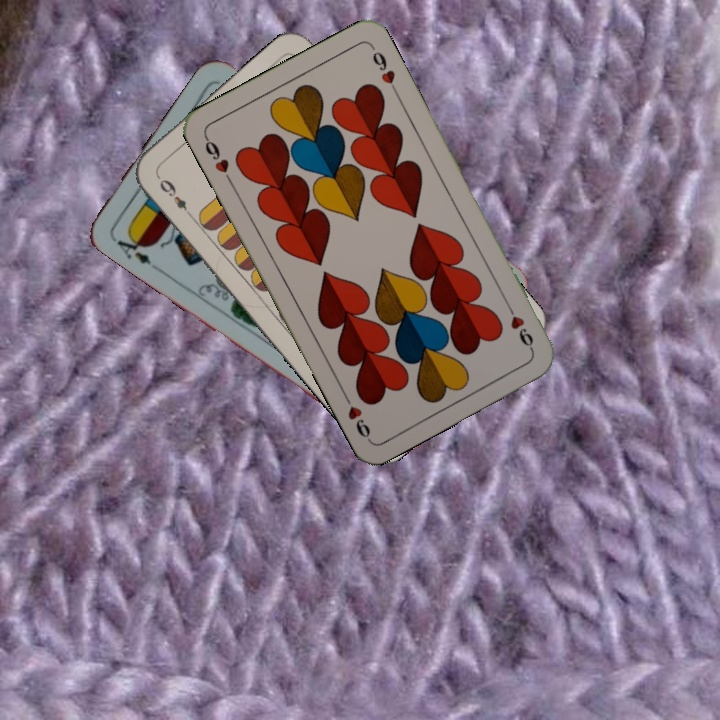E9: (155, 175, 196, 221)
EA: (108, 228, 154, 268)
H9: (200, 132, 235, 186), (502, 299, 536, 353)
